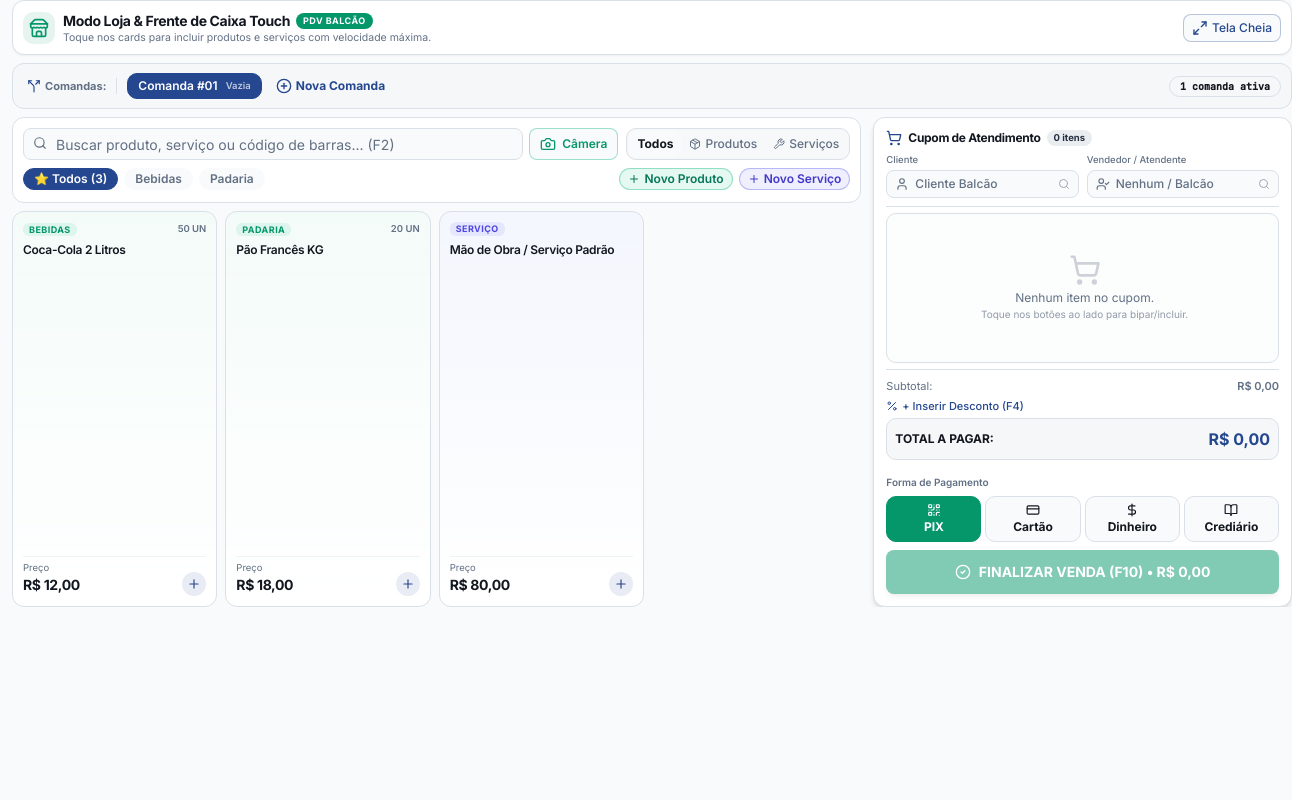
Test: StorePos Component (Modo Loja / Frente de Caixa Touch) › deve adicionar um produto ao clicar no card touch e atualizar o cupom
Note: Clica no card do produto Coca-Cola
Step 1. Click the heading "Coca-Cola 2 Litros" → (74, 250), box [23,242,126,257]
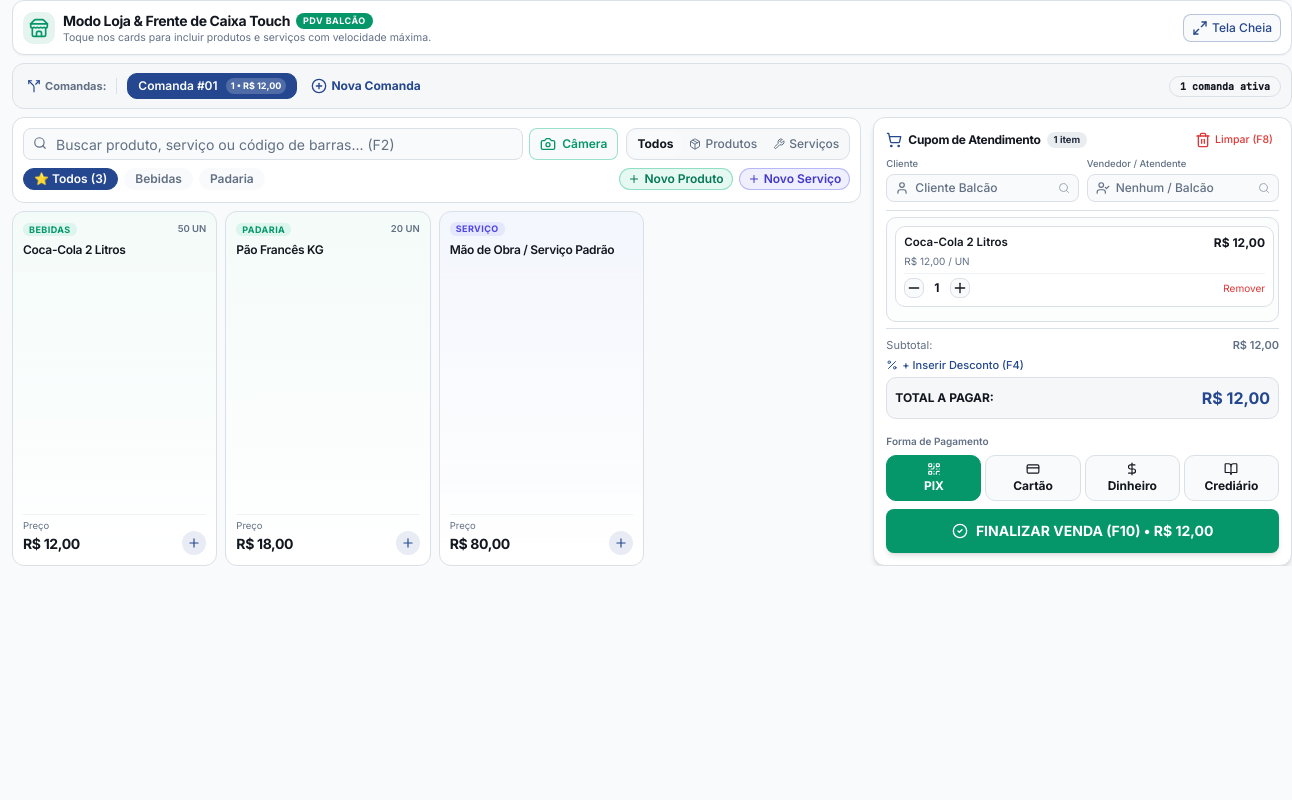
Expected: the text "TOTAL A PAGAR:" is shown, [895,390,994,406]
Expected: the text "1 item" is shown, [1046,132,1087,148]
